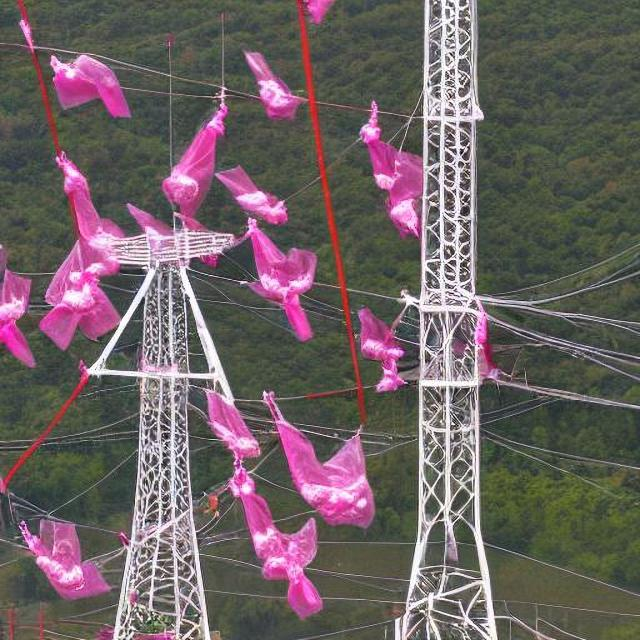floating object: (80, 95, 309, 344), (200, 383, 360, 611), (41, 63, 171, 334), (247, 390, 372, 538), (43, 155, 129, 346), (5, 357, 94, 491), (240, 2, 332, 123), (357, 106, 422, 240), (46, 54, 130, 118), (238, 45, 306, 120), (17, 517, 83, 593), (356, 303, 407, 393), (0, 260, 36, 367)
